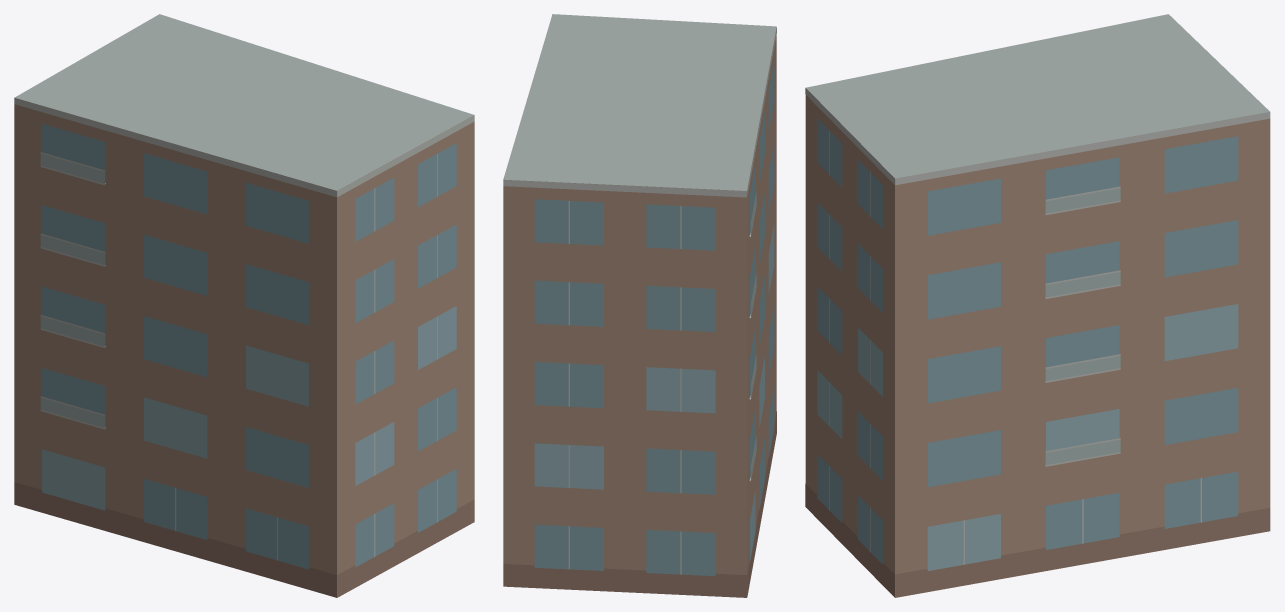
The model's file is survey-upis-32856356.glb.
The picture shows the model from 3 angles, left to right: view 1: azimuth 30°, elevation 25°; view 2: azimuth 150°, elevation 25°; view 3: azimuth 270°, elevation 25°; orthographic projection. The views are drawn at different scales.
Visible parts, largest first — view 1: survey-upis-32856356.tmp; view 2: survey-upis-32856356.tmp; view 3: survey-upis-32856356.tmp.
Part boxes in pixels (x1,y1,x2,y2): survey-upis-32856356.tmp: (14, 14, 474, 597); survey-upis-32856356.tmp: (503, 14, 776, 597); survey-upis-32856356.tmp: (805, 14, 1270, 597).
Size of the model in its own units: 12.89 by 15.3 by 15.38.
